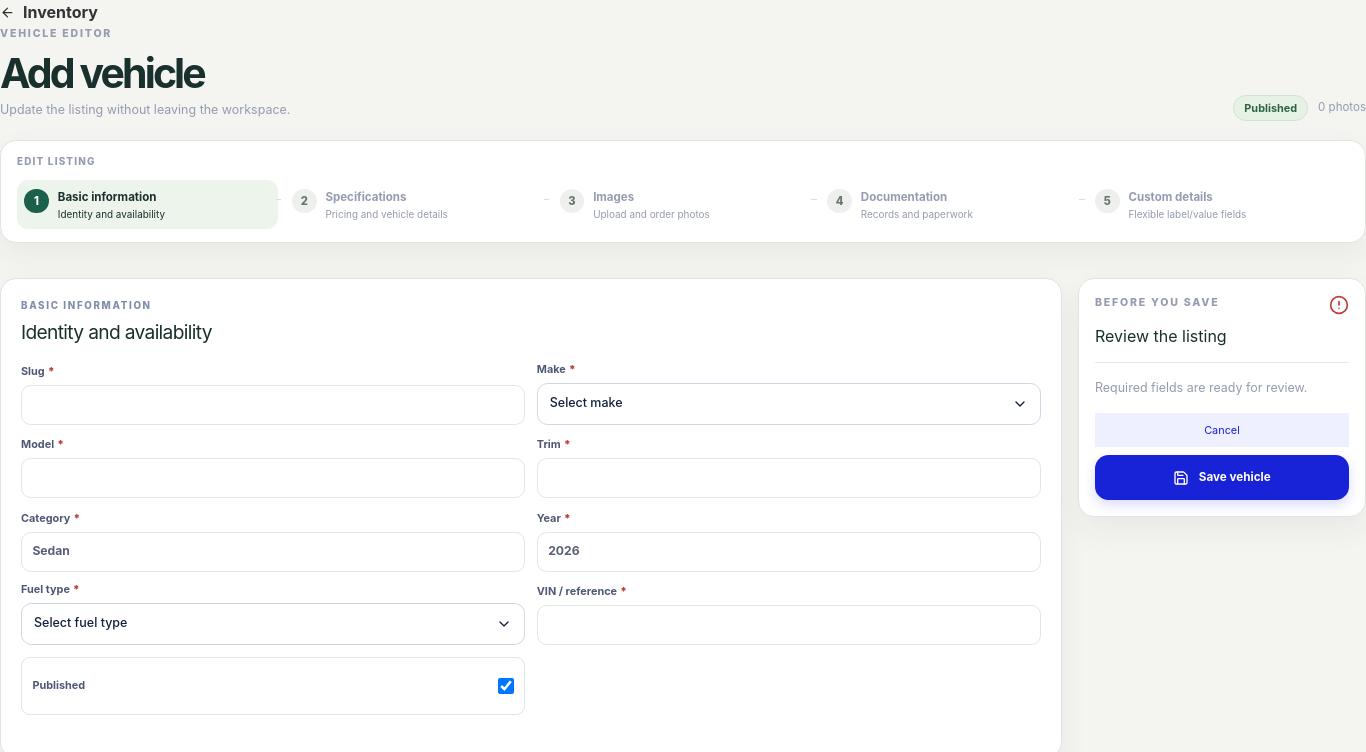
it: AdminInventoryPanel option management › keeps the basic and specifications headings in the shared editor content shell
The image size is (1366, 752).
Check: the heading "Identity and availability" is shown, box [21,320,212,344]
Check: the element with class "admin-editor-section-heading" is shown, box [21,300,212,344]
Step 1. Click the button "2 Specifications Pricing and vehicle details" → click(366, 197), box [285,180,546,229]
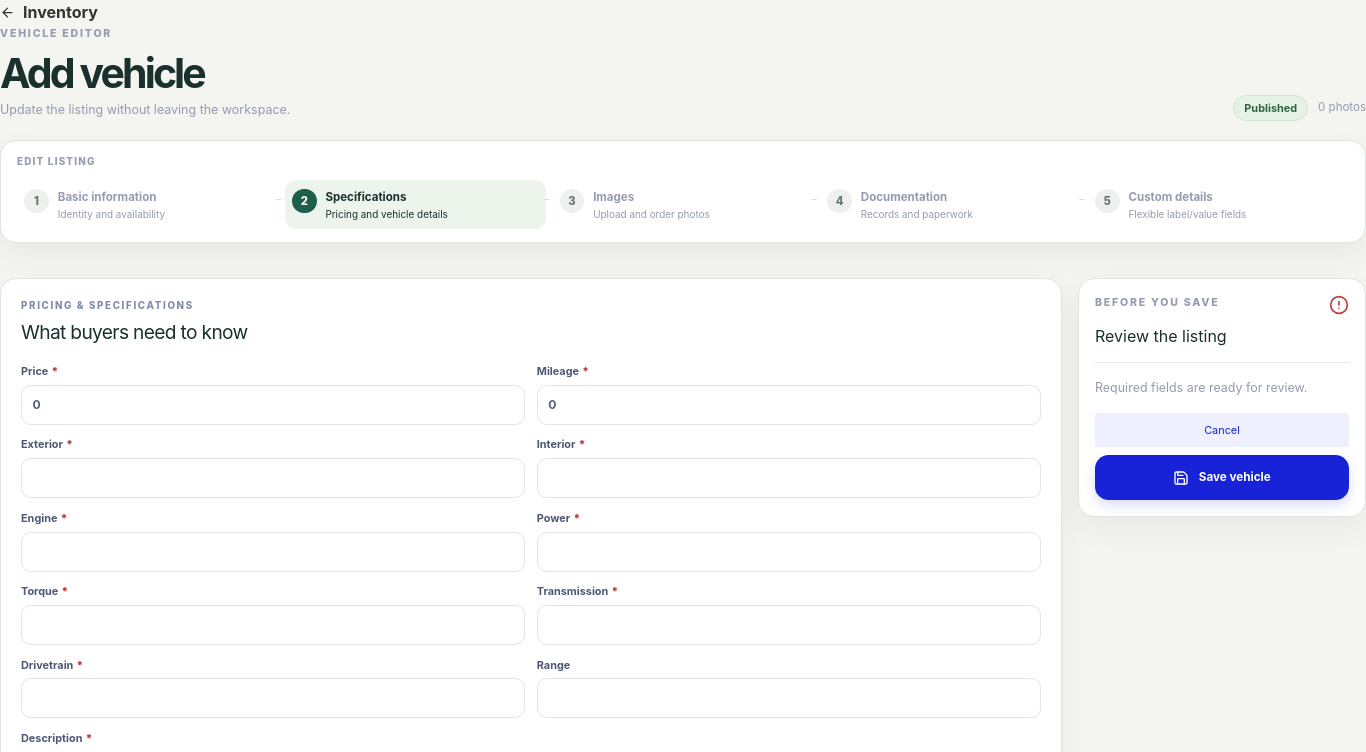
Check: the element with class "admin-editor-section-heading" is shown, box [21,300,248,344]
Check: the heading "What buyers need to know" is shown, box [21,320,248,344]
